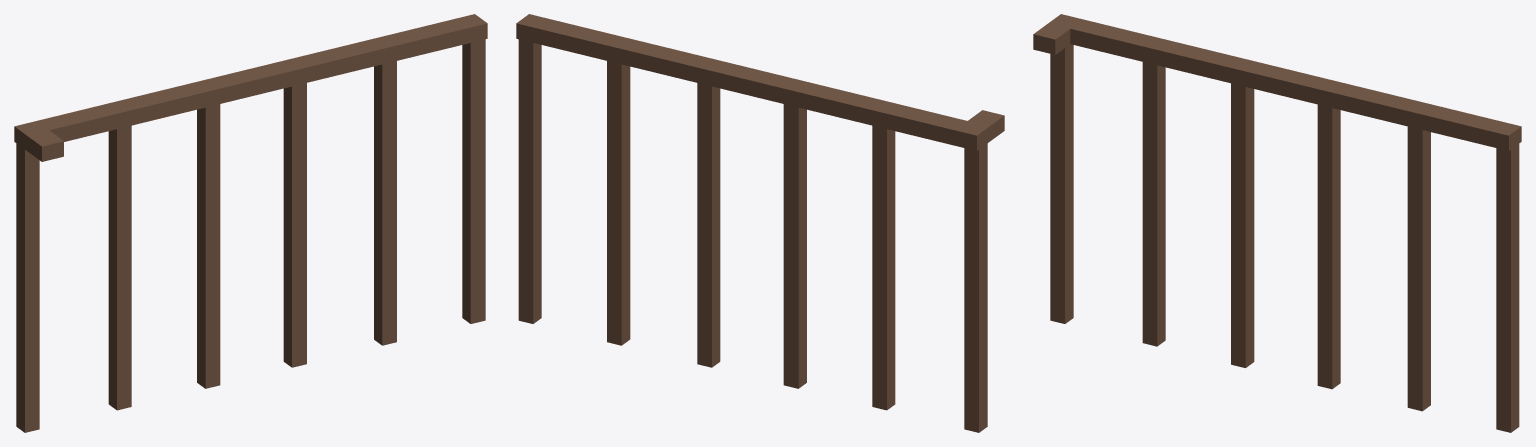
Rendered from SPW_Medieval_Props_Steps Fence_02.glb.
3 renders of one model, left to right at view 1: azimuth 30°, elevation 25°; view 2: azimuth 150°, elevation 25°; view 3: azimuth 330°, elevation 25°, orthographic.
Parts seen in each view (by area): view 1: SPW_Medieval_Props_Steps Fence_02; view 2: SPW_Medieval_Props_Steps Fence_02; view 3: SPW_Medieval_Props_Steps Fence_02.
Boxes of the visible parts, x1,y1,x2,y2 form: SPW_Medieval_Props_Steps Fence_02: (14, 14, 487, 432); SPW_Medieval_Props_Steps Fence_02: (516, 14, 1004, 432); SPW_Medieval_Props_Steps Fence_02: (1033, 14, 1521, 432).
Size of the model in its own units: 1.25 by 0.775 by 0.13.
1 material, 1 textured.
